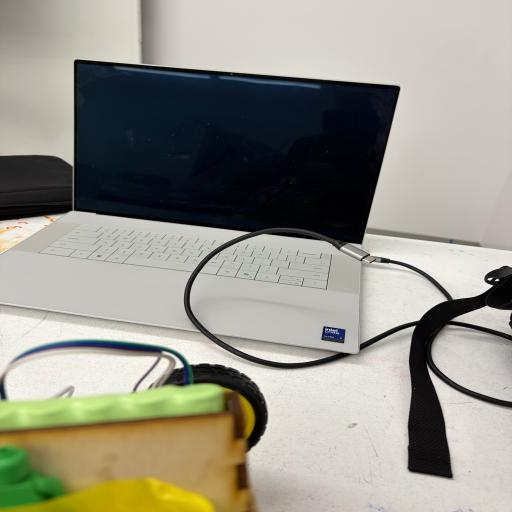Green-Lego: (0, 445, 64, 508)
